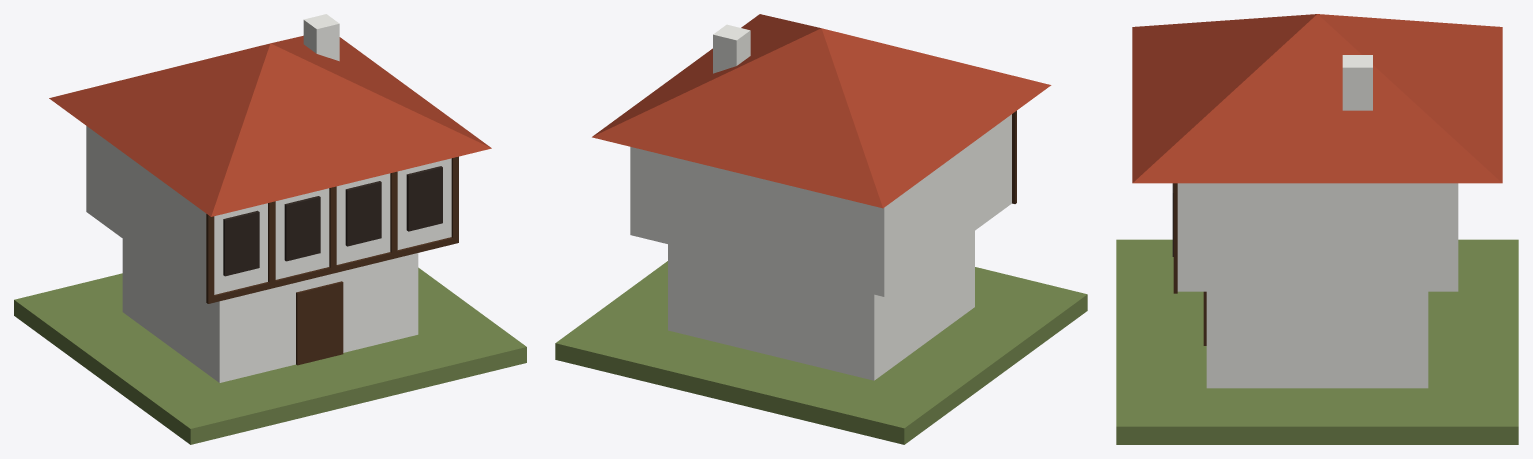
Rendered from safranbolu.glb.
The picture shows the model from 3 angles, left to right: view 1: azimuth 30°, elevation 25°; view 2: azimuth 150°, elevation 25°; view 3: azimuth 270°, elevation 25°; orthographic projection. The views are drawn at different scales.
Bounding box in the file's own units: 0.44 × 0.37 × 0.4.
